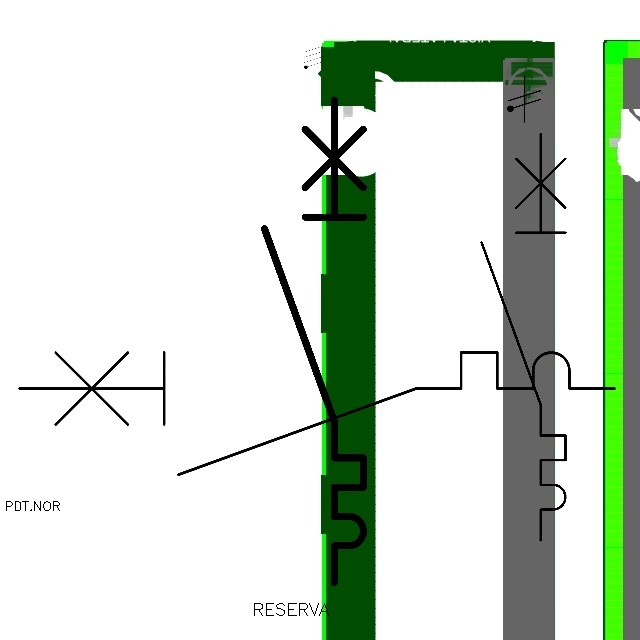interruptor_termomagnetico: (4, 337, 630, 490), (252, 87, 376, 595), (471, 123, 576, 551)
